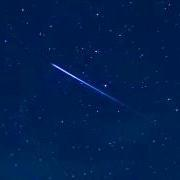meteorite: (48, 64, 125, 99)
